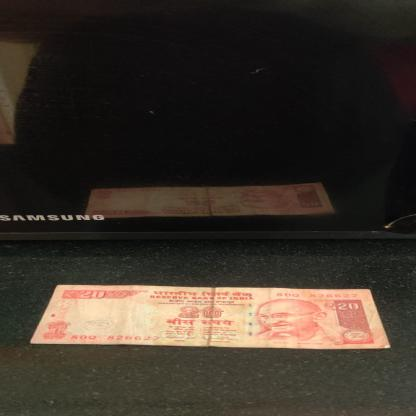Old20Front: (28, 284, 392, 349)
